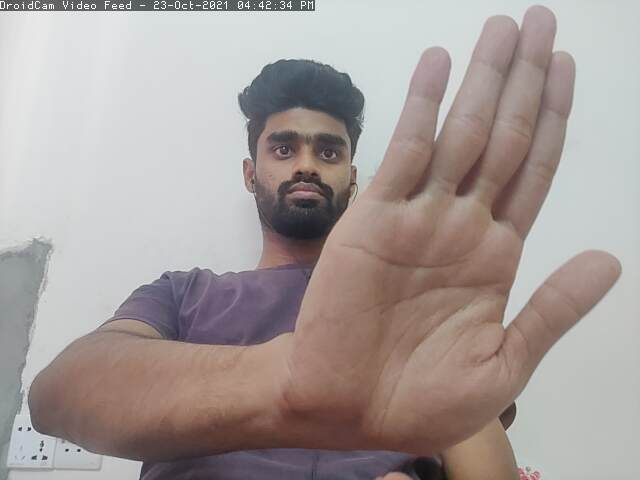Stop: (359, 11, 640, 436)
